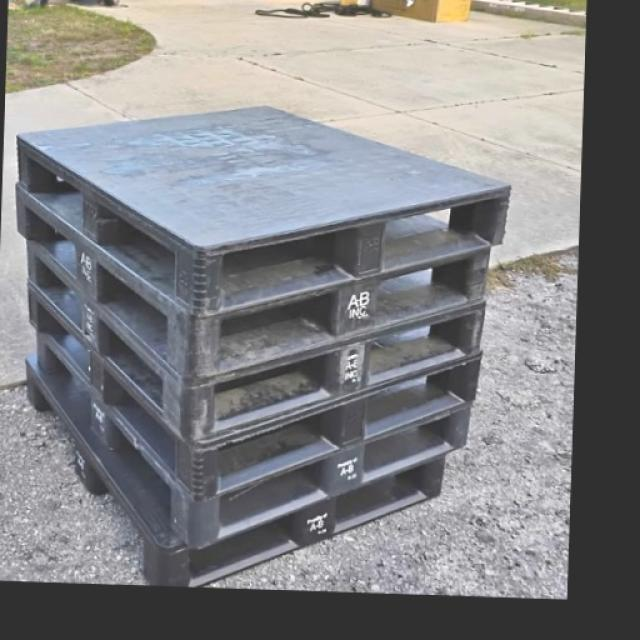non-igps: (10, 99, 519, 327), (19, 274, 490, 509), (17, 343, 453, 594), (30, 314, 478, 555), (20, 229, 493, 456), (8, 173, 498, 386)
